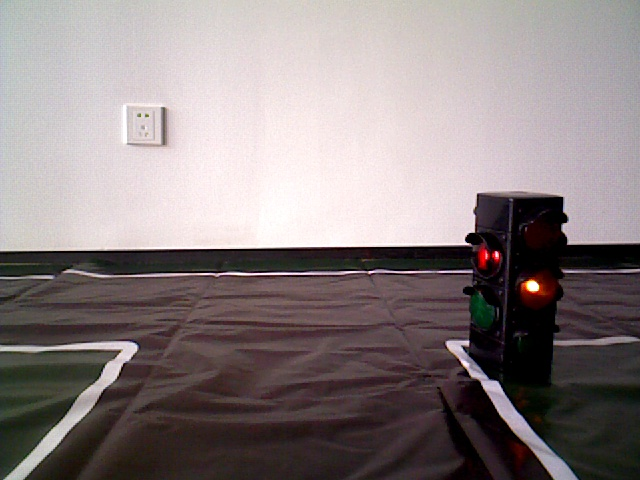yellow: (469, 195, 546, 373)
